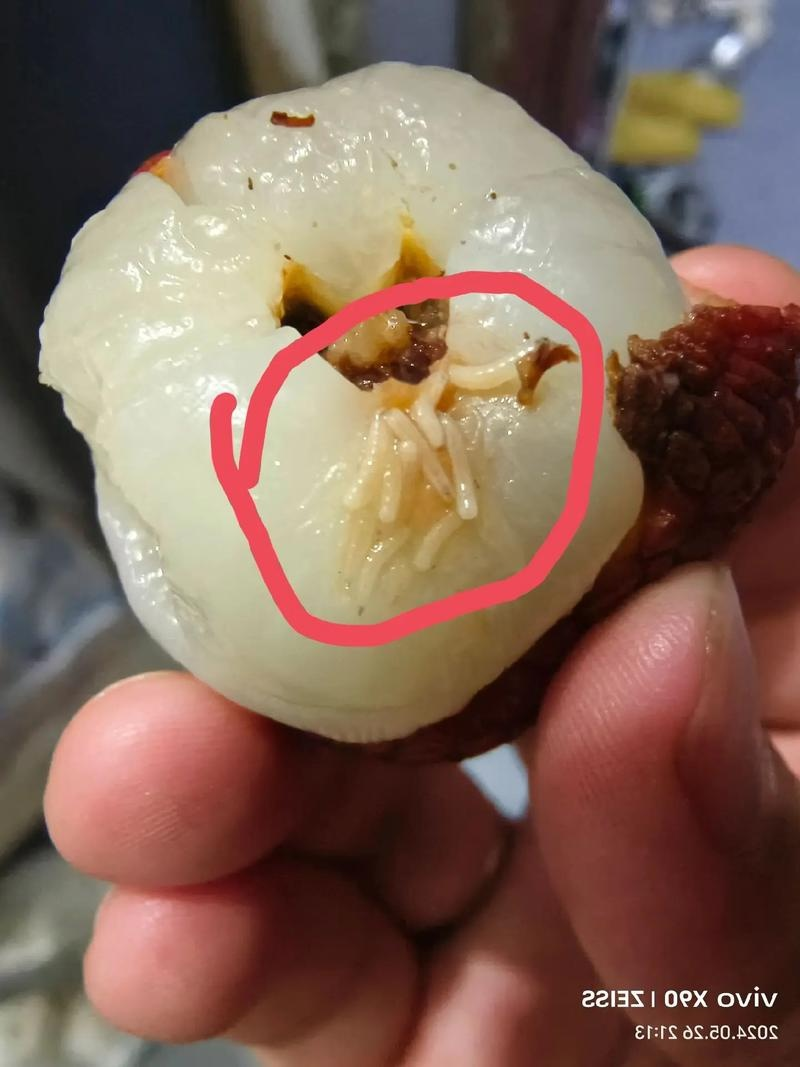Borer: (337, 302, 525, 594)
